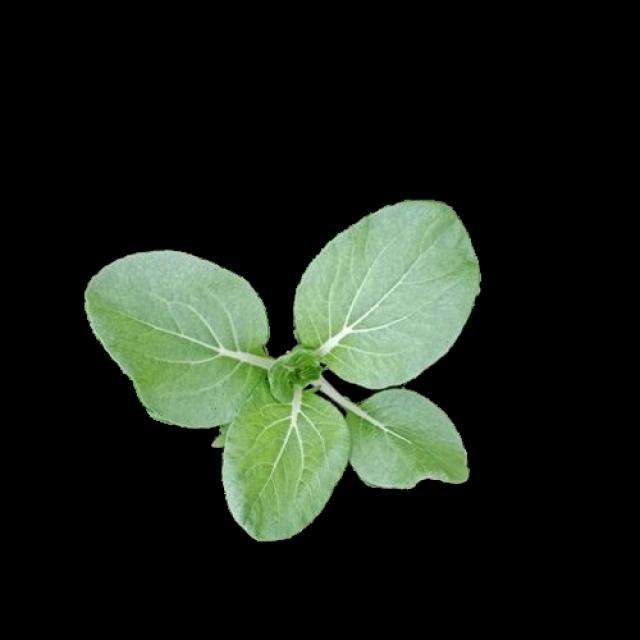healthy: (83, 197, 476, 538)
not-mature: (86, 200, 478, 540)
